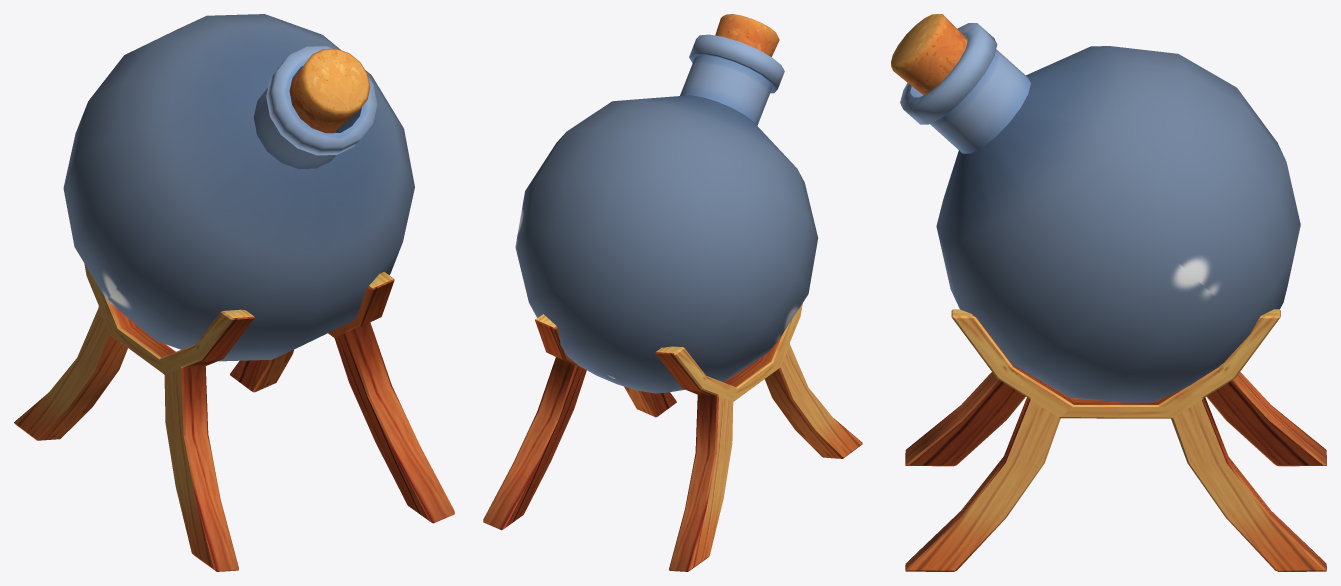
The model's file is shelter.FBX.
3 views of the same model, side by side, from view 1: azimuth 30°, elevation 25°; view 2: azimuth 150°, elevation 25°; view 3: azimuth 270°, elevation 25° (orthographic). The views are drawn at different scales.
Visible parts, largest first — view 1: Sphere001, Object001; view 2: Sphere001, Object001; view 3: Sphere001, Object001.
Boxes of the visible parts, left/top/right/bottom form: Sphere001: left=14, top=14, right=454, bottom=571; Object001: left=289, top=48, right=370, bottom=133; Sphere001: left=483, top=34, right=862, bottom=571; Object001: left=715, top=14, right=779, bottom=56; Sphere001: left=900, top=23, right=1326, bottom=571; Object001: left=891, top=14, right=967, bottom=95.
Size of the model in its own units: 800 by 1214 by 957.
